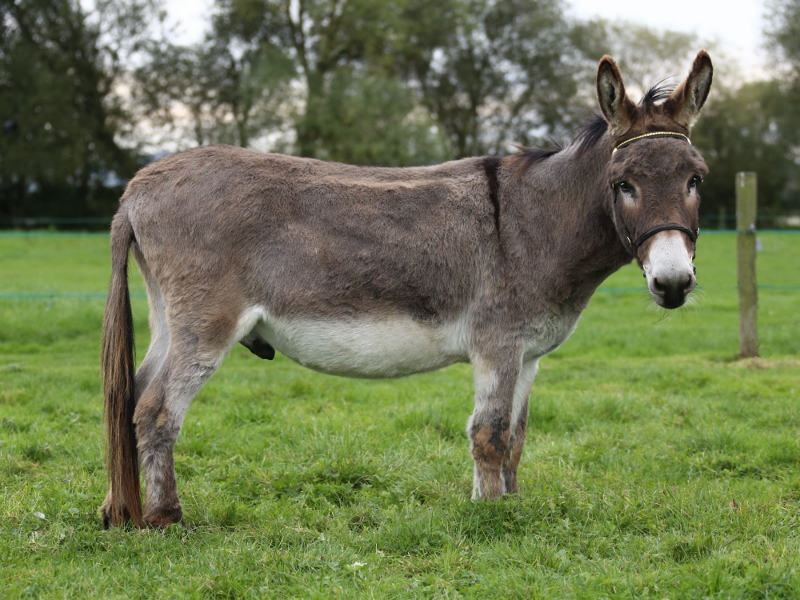donkey: (91, 49, 718, 528)
